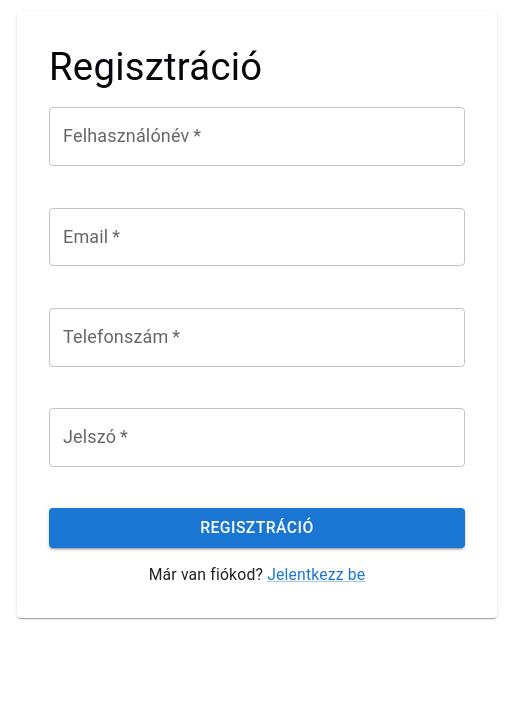
Test: Register oldal › ha a szerverhiba üzenet nélkül jön, alapértelmezett szöveget mutat
Type "foglalt" into the field named "username" at (257, 137), box 49,107 -> 465,166
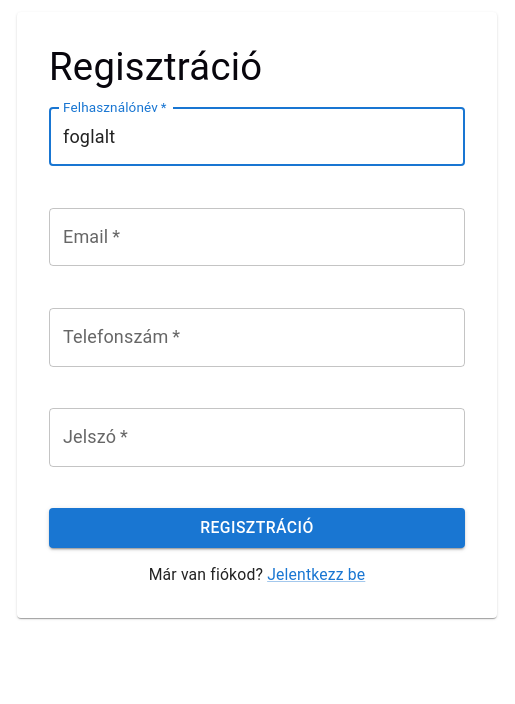
Type "a@b.com" into the field labelled "Email" at (257, 237), box 49,208 -> 465,266
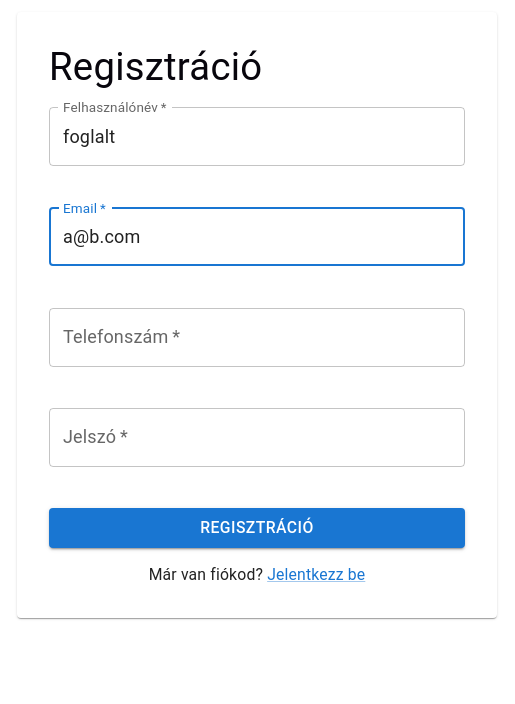
Type "06301234567" into the field named "phone" at (257, 337), box 49,308 -> 465,367
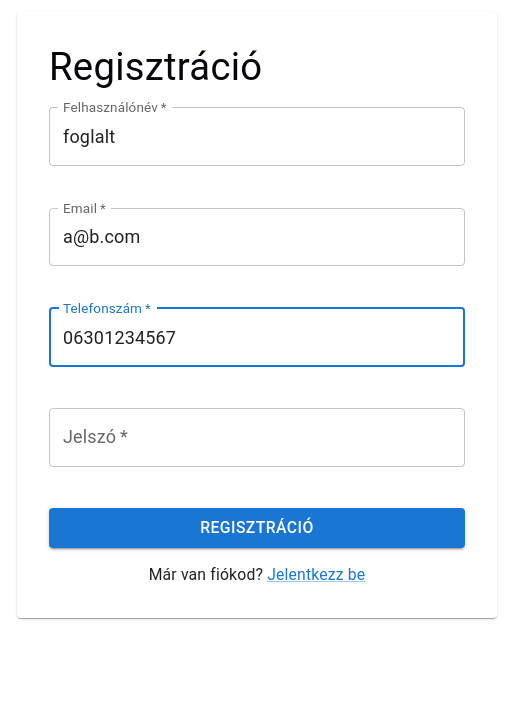
Type "jelszo123" into the password field named "password" at (257, 438), box 49,408 -> 465,467
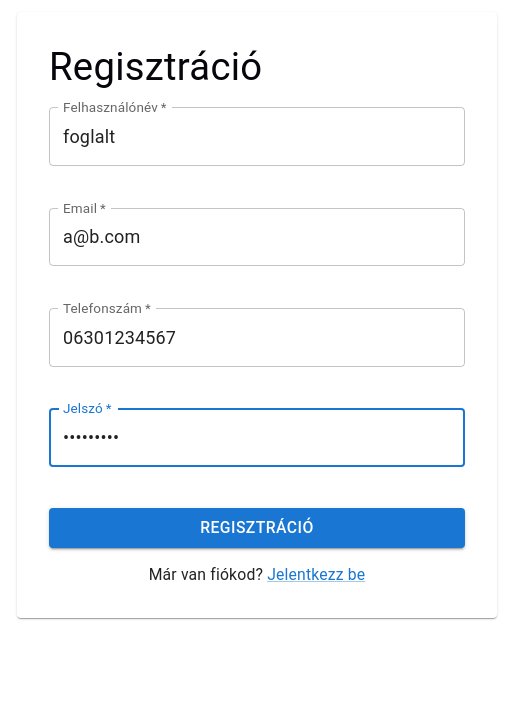
Click the button "Regisztráció" at (257, 528), box 49,508 -> 465,548
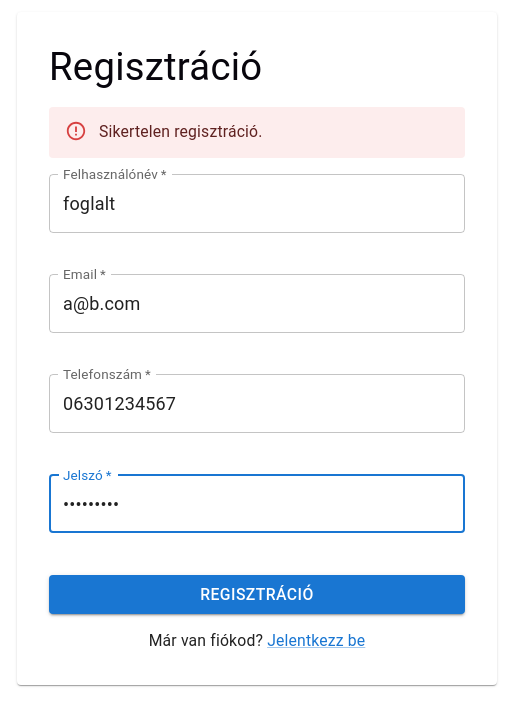
Result: the text "Sikertelen regisztráció." is shown at 99,122 -> 262,141
